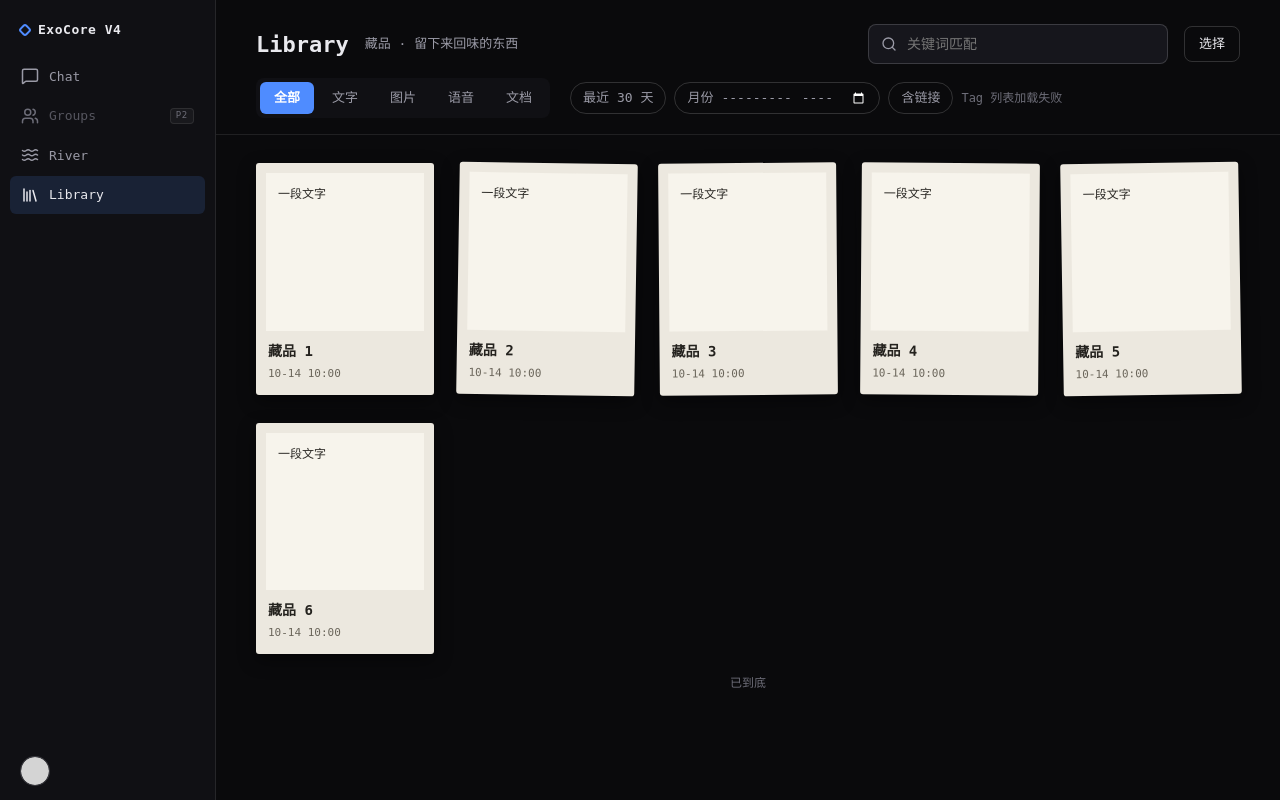
Scenario: Composer bring-back rules (#61 CP5) › an accepted turn failing with an item_id SSE error restores the cards and marks that one
Click the button "选择" at (1212, 44), box [1184,26,1240,62]
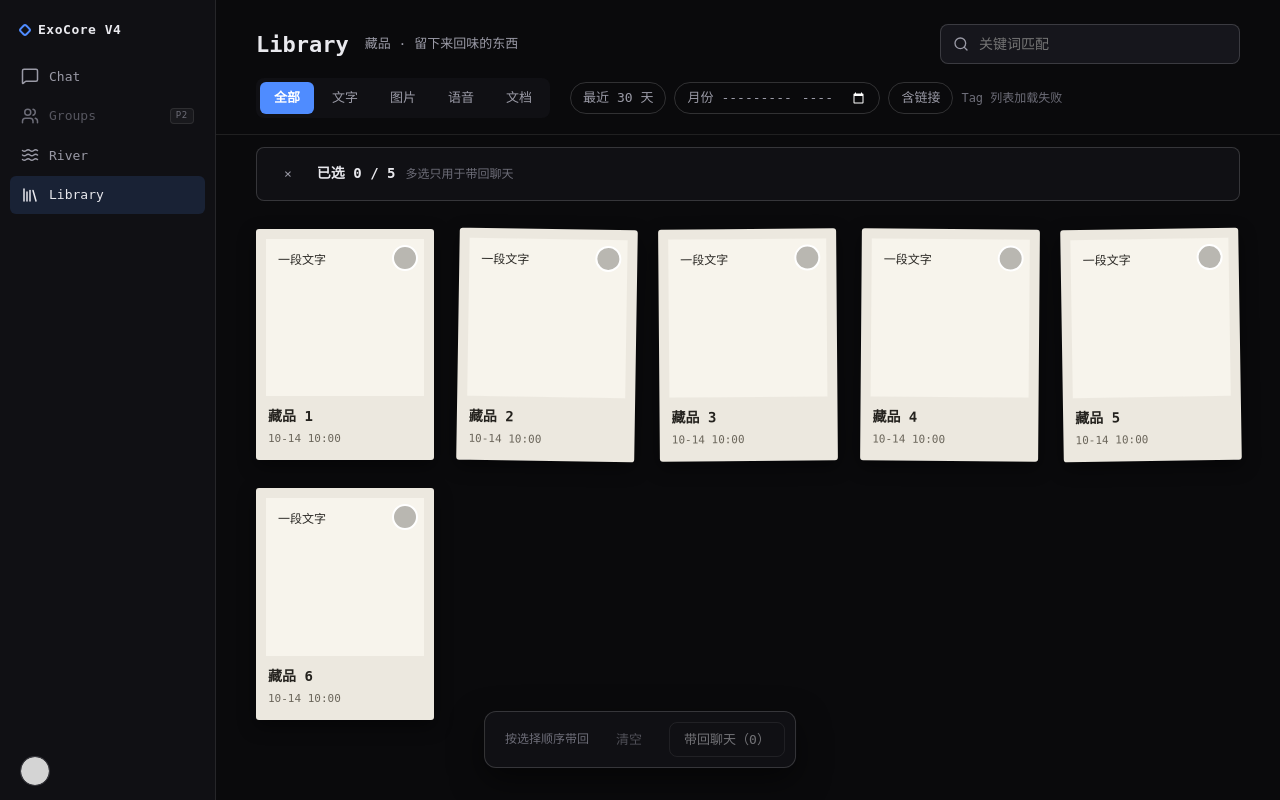
Click the button "藏品 1" at (345, 417), box [268,406,422,427]
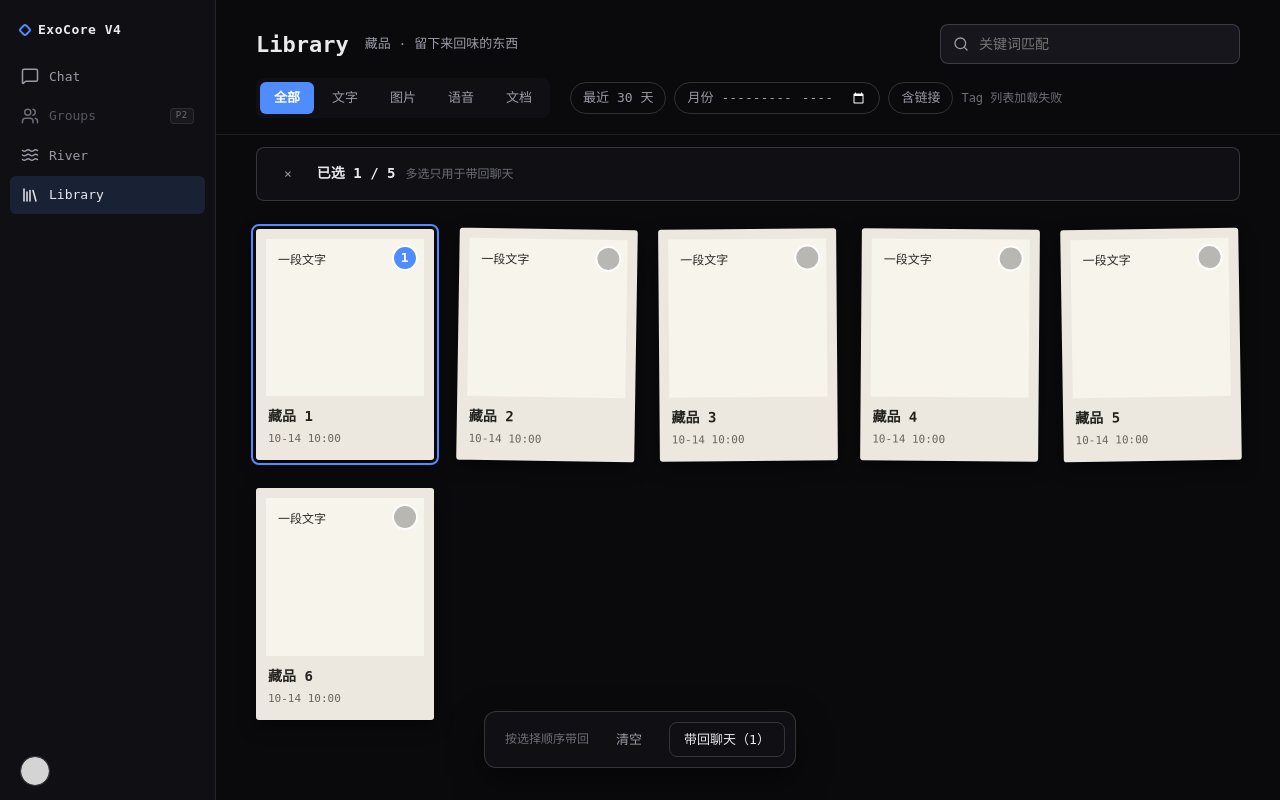
Click the button "藏品 2" at (545, 417), box [468,405,622,428]
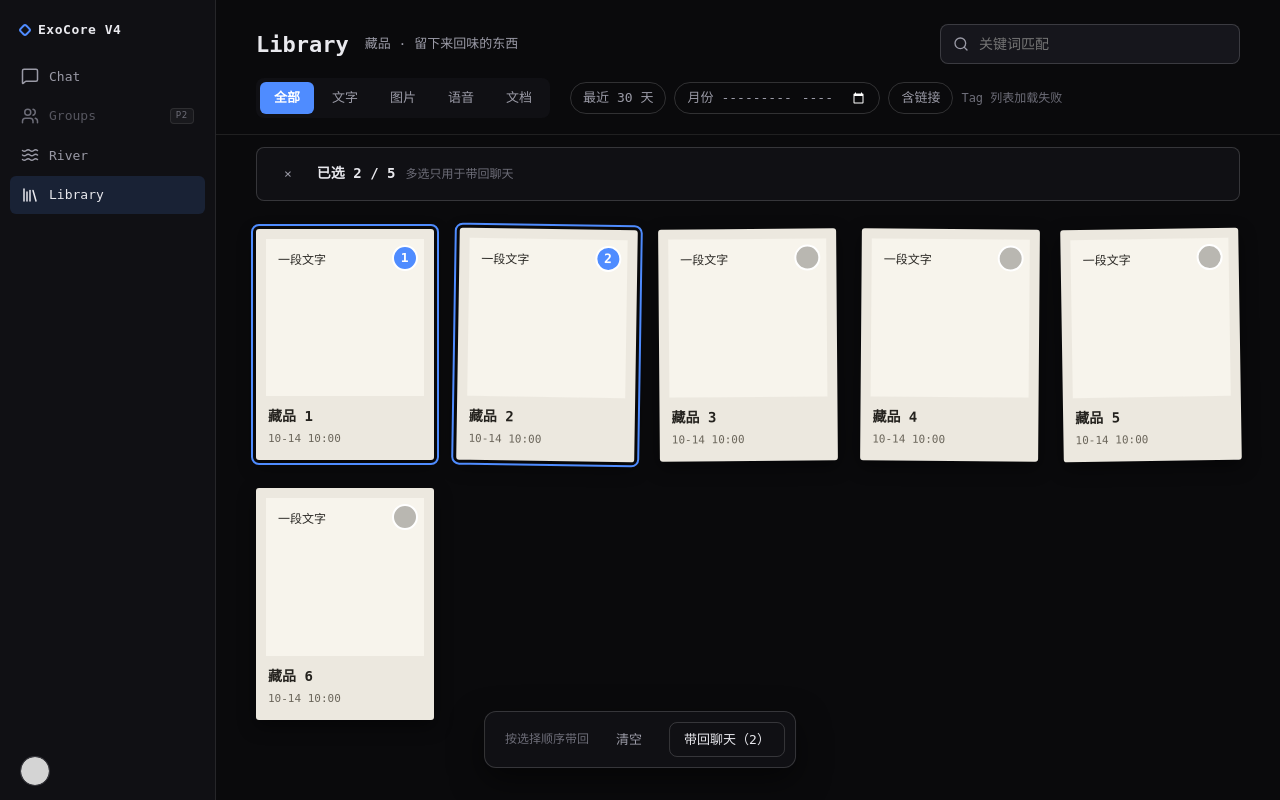
Click the button "带回聊天（2）" at (727, 739), box [669,722,785,757]
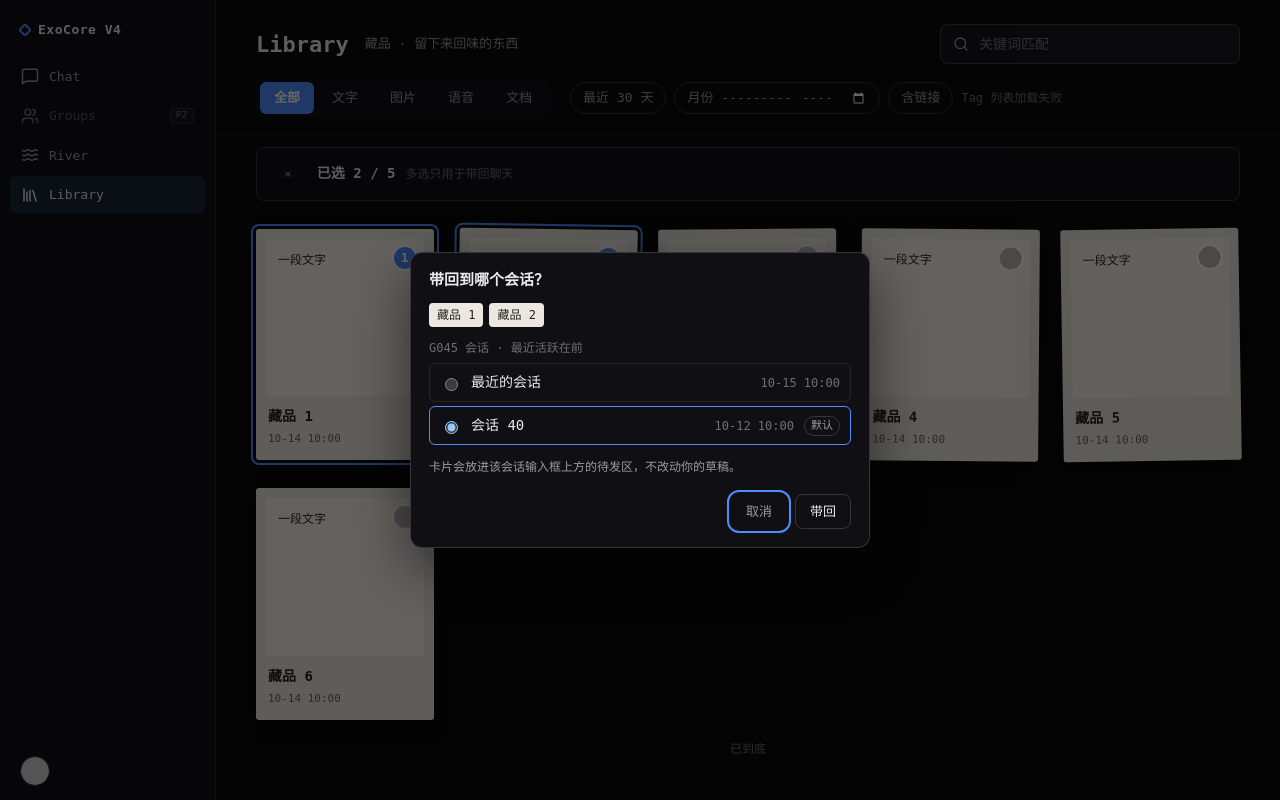
Click the button "带回" at (823, 511), box [795,494,851,529]
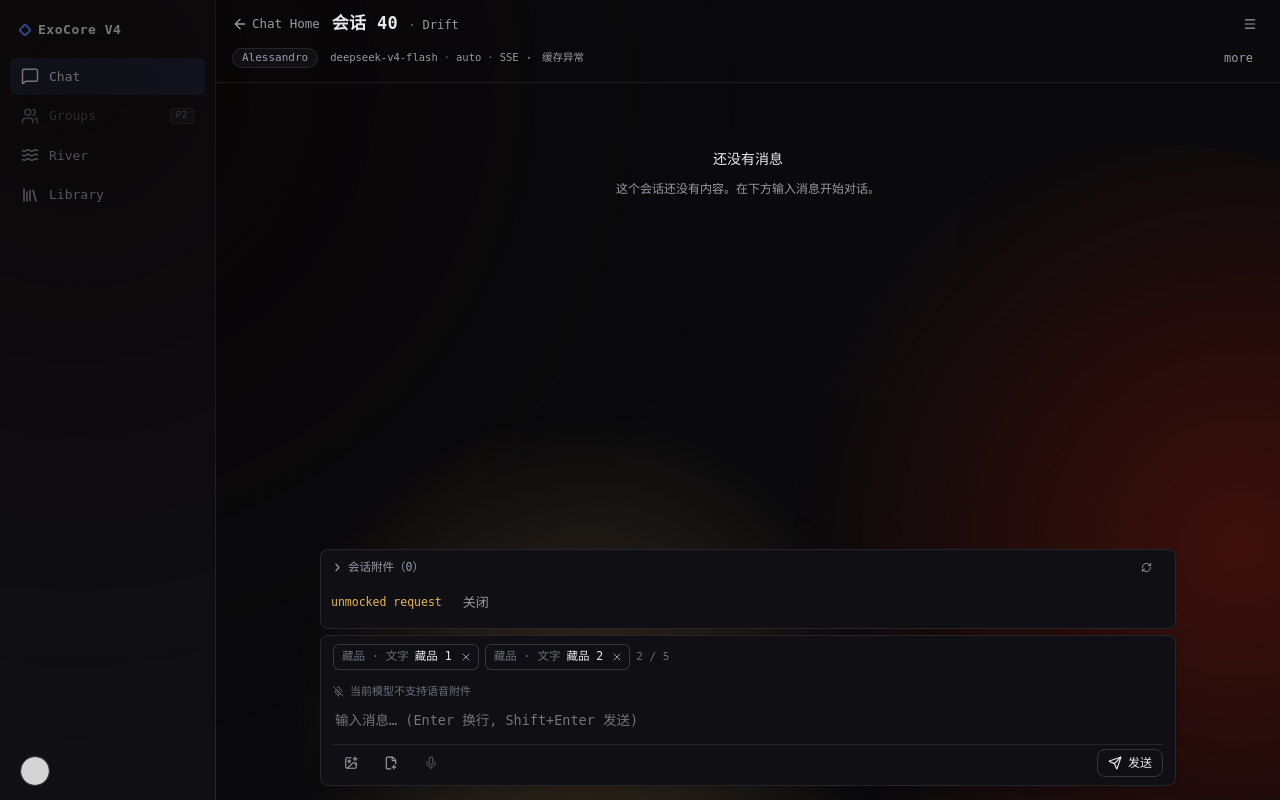
Check: the button with aria-label "发送消息" is enabled
Click the button with aria-label "发送消息" at (1130, 763), box [1097,749,1163,777]
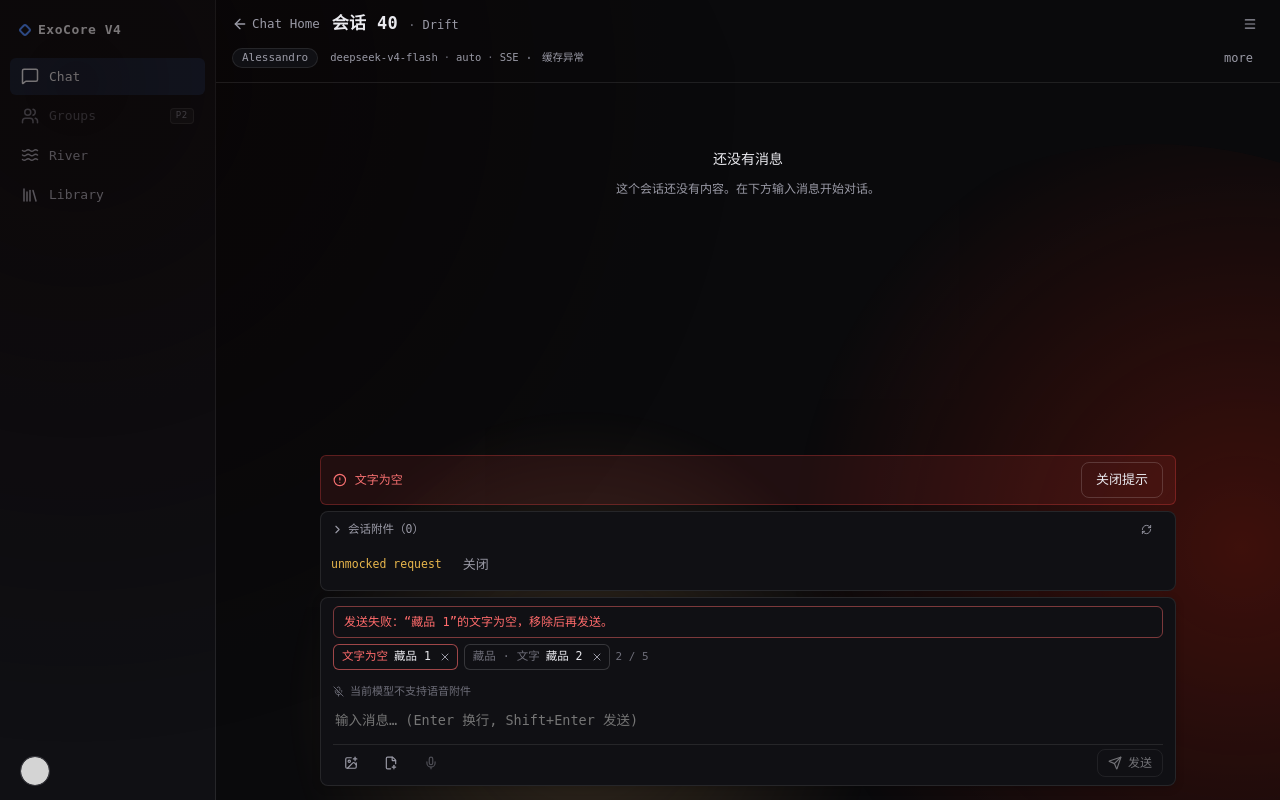
Check: the text "发送失败：“藏品 1”的文字为空，移除后再发送。" is shown, box [333,606,1163,638]
